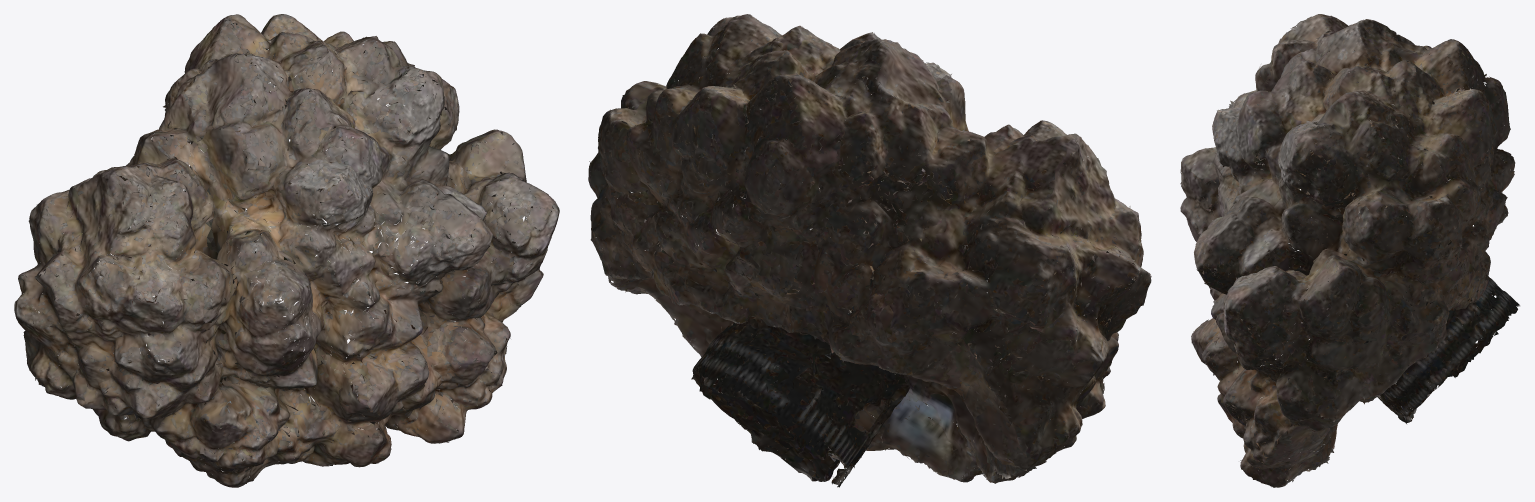
The model's file is pirita.glb.
3 views of the same model, side by side, from view 1: azimuth 30°, elevation 25°; view 2: azimuth 150°, elevation 25°; view 3: azimuth 270°, elevation 25° (orthographic). The views are drawn at different scales.
Parts seen in each view (by area): view 1: Object_2, Object_3, Object_4; view 2: Object_2, Object_3, Object_4; view 3: Object_2, Object_3, Object_4.
Boxes of the visible parts, bbox=[...] form: Object_2: bbox=[14, 14, 559, 486]; Object_3: bbox=[15, 15, 558, 487]; Object_4: bbox=[15, 15, 558, 486]; Object_2: bbox=[590, 14, 1151, 483]; Object_3: bbox=[588, 14, 1149, 487]; Object_4: bbox=[589, 15, 1151, 485]; Object_2: bbox=[1180, 14, 1517, 483]; Object_3: bbox=[1181, 14, 1519, 487]; Object_4: bbox=[1180, 14, 1519, 487].
Bounding box in the file's own units: 0.782 × 0.6179 × 0.4805.
1 material, 1 textured.
